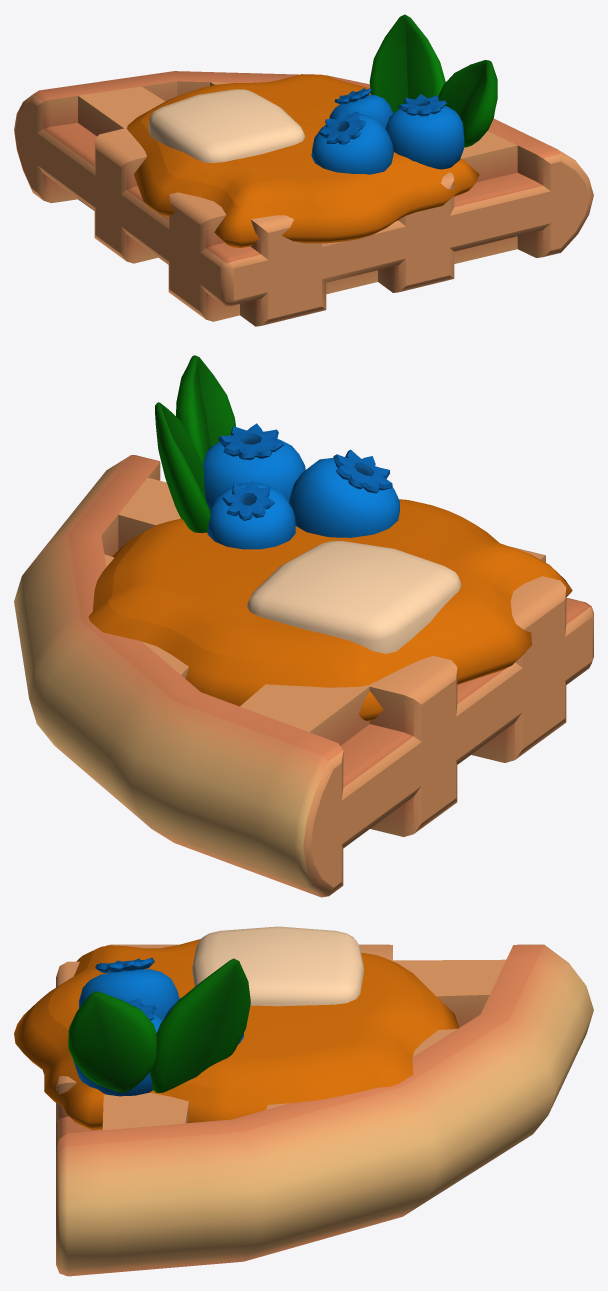
File: Waffle_Slice_V1_01.fbx
3 renders of one model, top to bottom at view 1: azimuth 30°, elevation 25°; view 2: azimuth 150°, elevation 25°; view 3: azimuth 270°, elevation 25°, orthographic. The views are drawn at different scales.
Parts seen in each view (by area): view 1: Waffle_Slice_V1_01; view 2: Waffle_Slice_V1_01; view 3: Waffle_Slice_V1_01.
Part boxes in pixels (x1,y1,x2,y2): Waffle_Slice_V1_01: [14, 14, 593, 326]; Waffle_Slice_V1_01: [14, 355, 593, 897]; Waffle_Slice_V1_01: [14, 926, 593, 1276].
Size of the model in its own units: 32.98 by 17.34 by 34.43.
